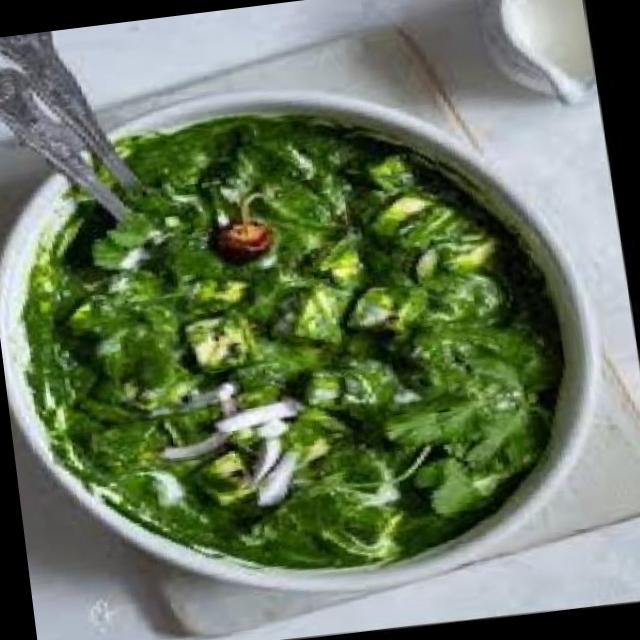palak_paneer: (0, 77, 598, 608)
